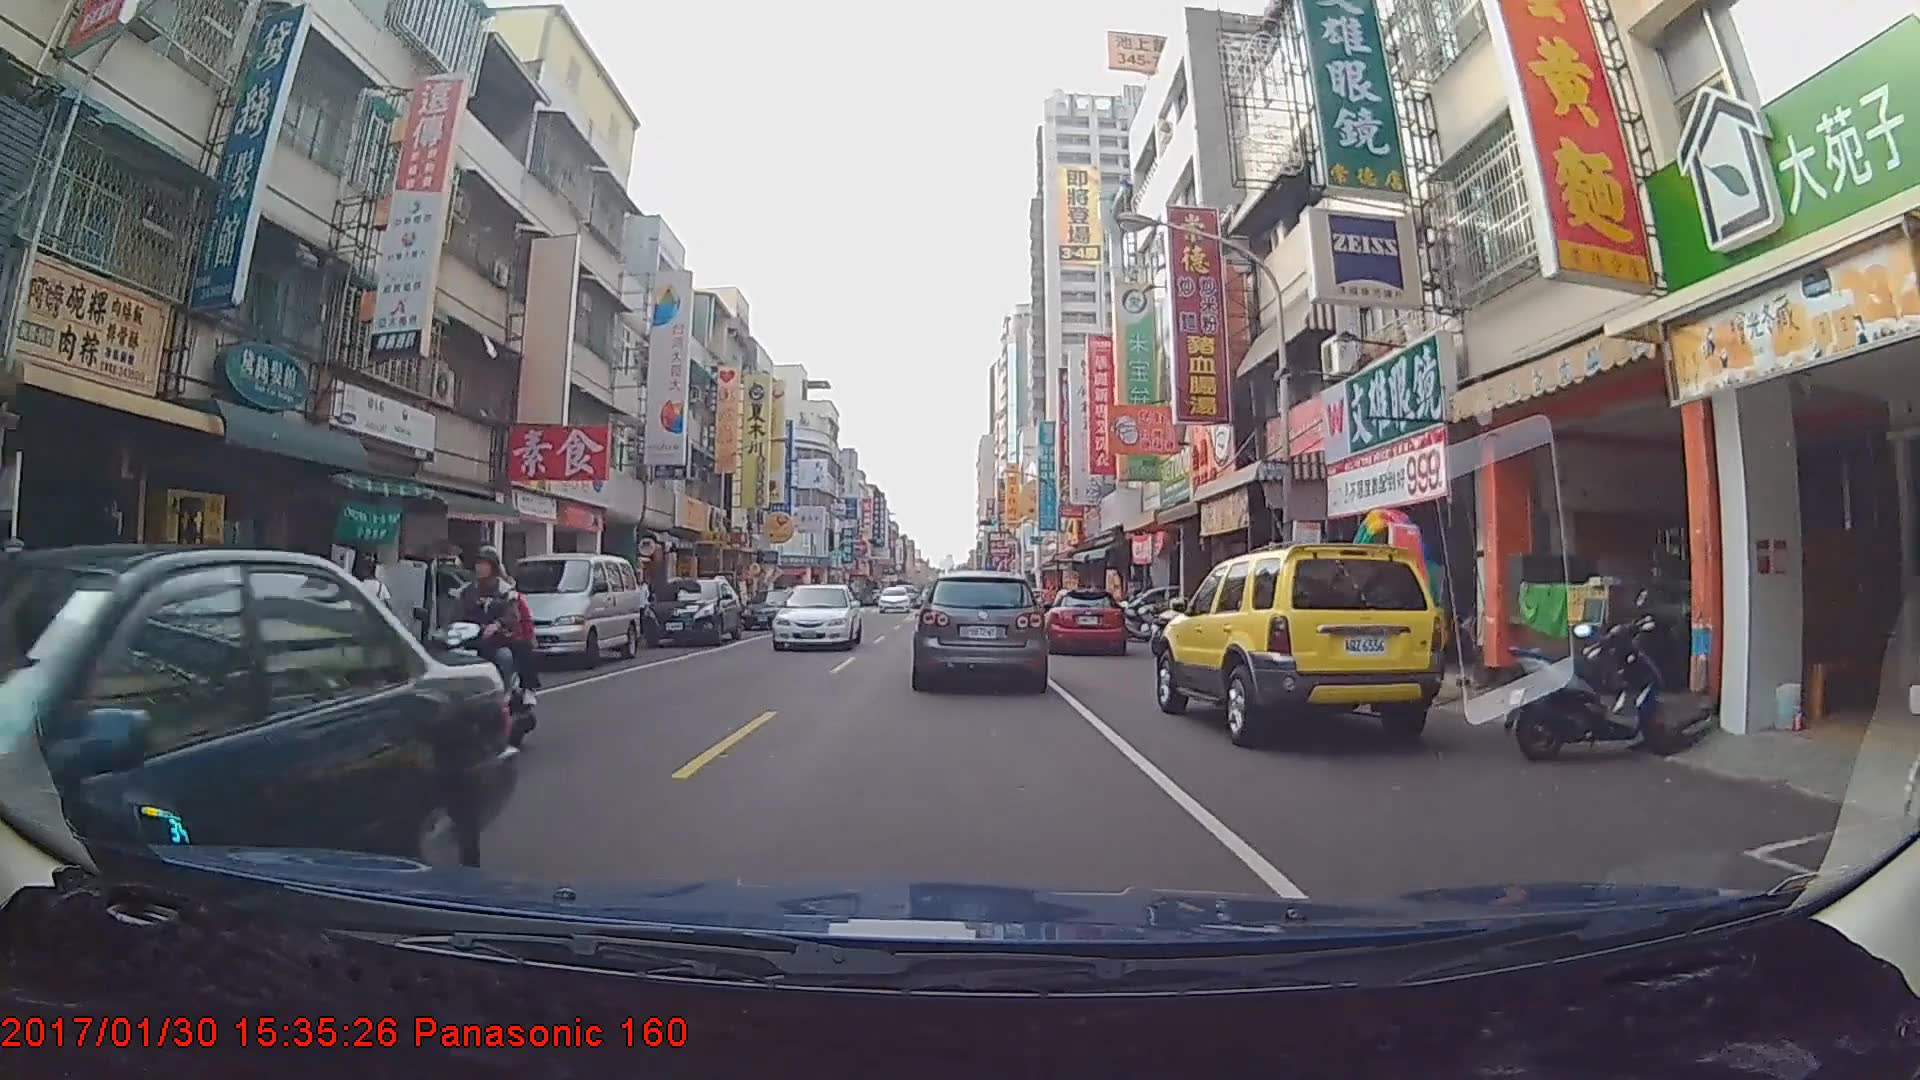rider: (416, 539, 546, 778)
vehicle: (0, 541, 519, 975), (1159, 536, 1440, 743), (500, 551, 640, 669), (913, 569, 1045, 688), (637, 575, 743, 646), (771, 583, 861, 652), (1041, 588, 1128, 656), (742, 588, 805, 631), (878, 586, 911, 614)
